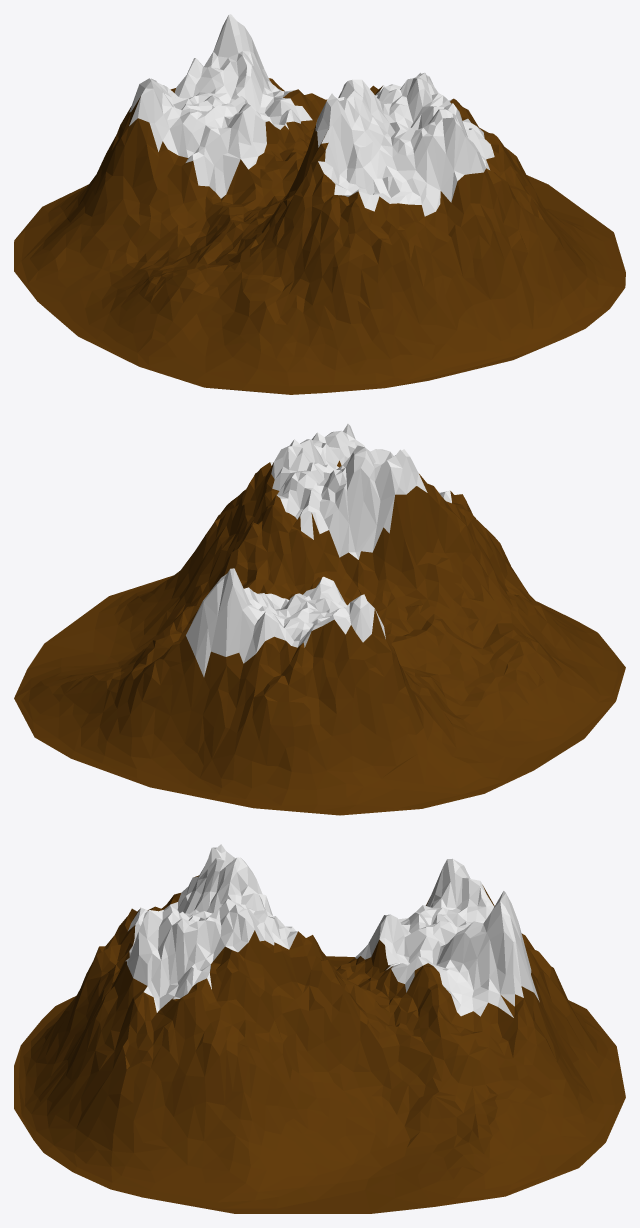
Rendered from LumiVuori-IlmanAlustaa.fbx.
The picture shows the model from 3 angles, top to bottom: view 1: azimuth 30°, elevation 25°; view 2: azimuth 150°, elevation 25°; view 3: azimuth 270°, elevation 25°; orthographic projection. The views are drawn at different scales.
Parts seen in each view (by area): view 1: Landscape; view 2: Landscape; view 3: Landscape.
Boxes of the visible parts, left/top/right/bottom form: Landscape: left=14, top=14, right=625, bottom=394; Landscape: left=14, top=424, right=625, bottom=815; Landscape: left=14, top=844, right=625, bottom=1213.
Size of the model in its own units: 200 by 80.85 by 200.
